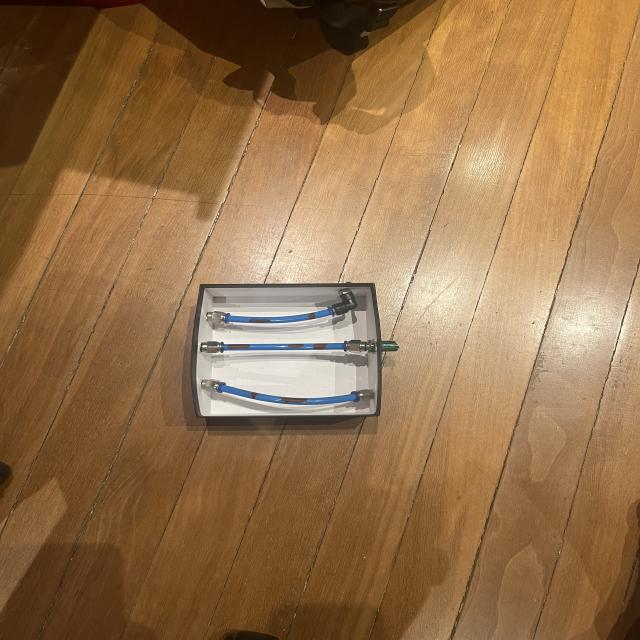hose_damage: (280, 396, 310, 403), (226, 344, 251, 349), (248, 318, 272, 323), (312, 343, 329, 350), (305, 312, 318, 320), (249, 391, 259, 400), (287, 344, 305, 348)
